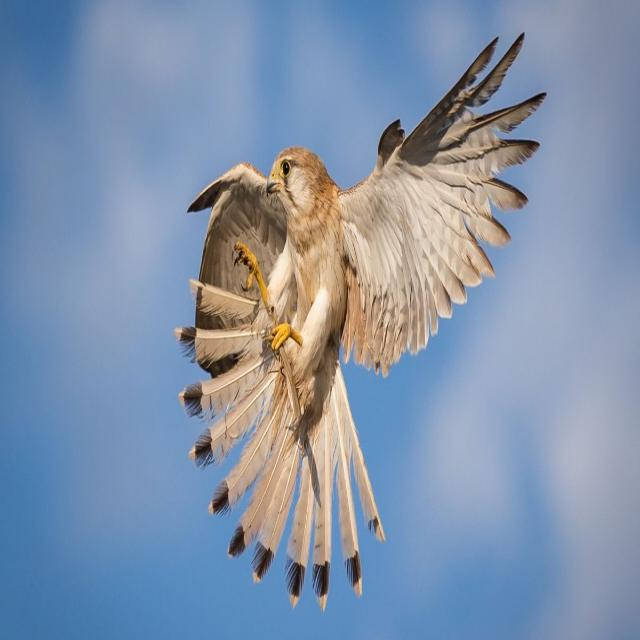birds: (174, 26, 548, 622)
